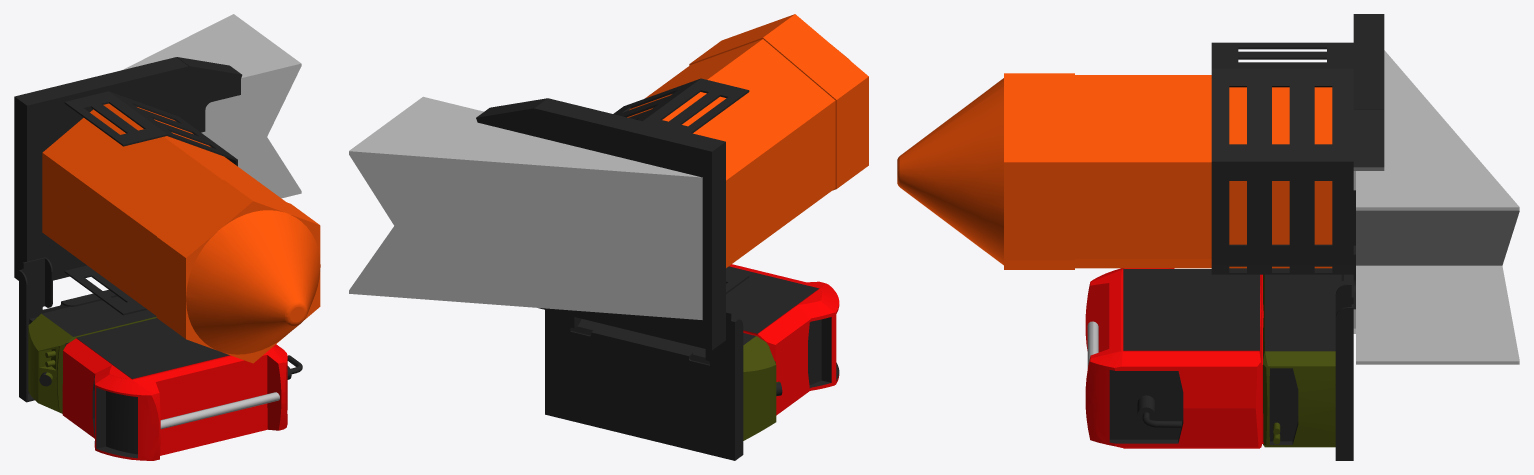
File: Welding_Package.dae
3 views of the same model, side by side, from view 1: azimuth 30°, elevation 25°; view 2: azimuth 150°, elevation 25°; view 3: azimuth 270°, elevation 25° (orthographic). The views are drawn at different scales.
Parts seen in each view (by area): view 1: Node_000001A14B28C5C0 (×5); view 2: Node_000001A14B28C5C0 (×5); view 3: Node_000001A14B28C5C0 (×5).
Boxes of the visible parts, <box> form: Node_000001A14B28C5C0 (×5): <box>14,14,320,460</box>; Node_000001A14B28C5C0 (×5): <box>349,14,868,460</box>; Node_000001A14B28C5C0 (×5): <box>897,14,1519,460</box>.
Bounding box in the file's own units: 1.16 × 1.09 × 1.75.
